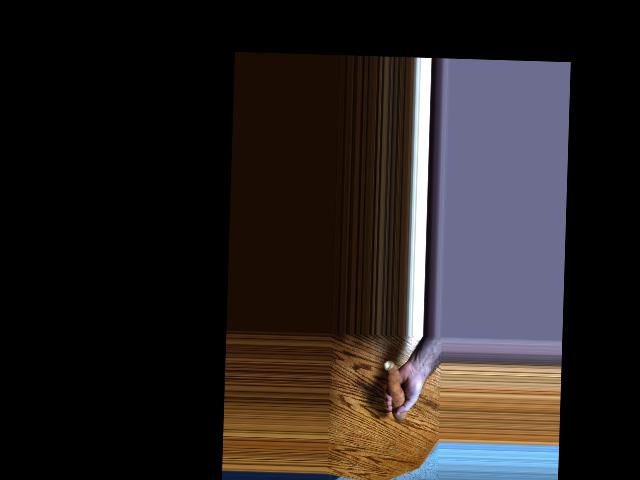sweet_potato: (384, 355, 411, 417)
